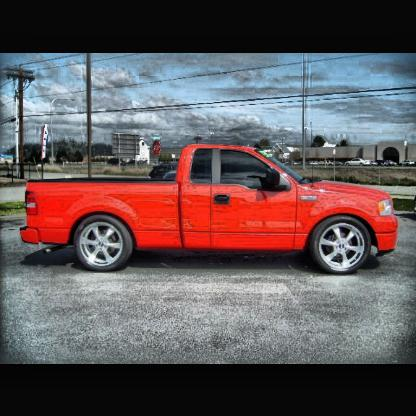Ford F-150 Regular Cab 2007: (19, 143, 400, 276)
